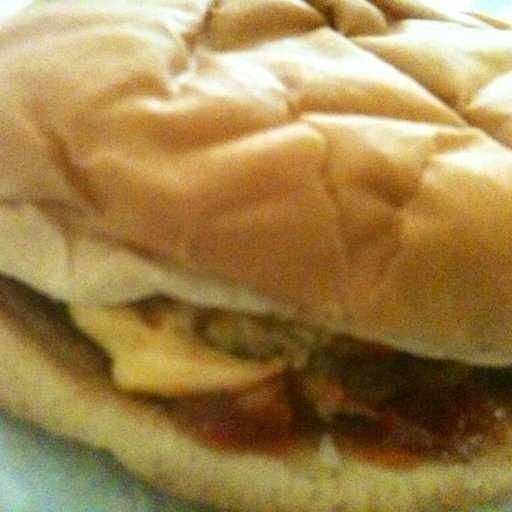hamburger: (2, 1, 509, 507)
